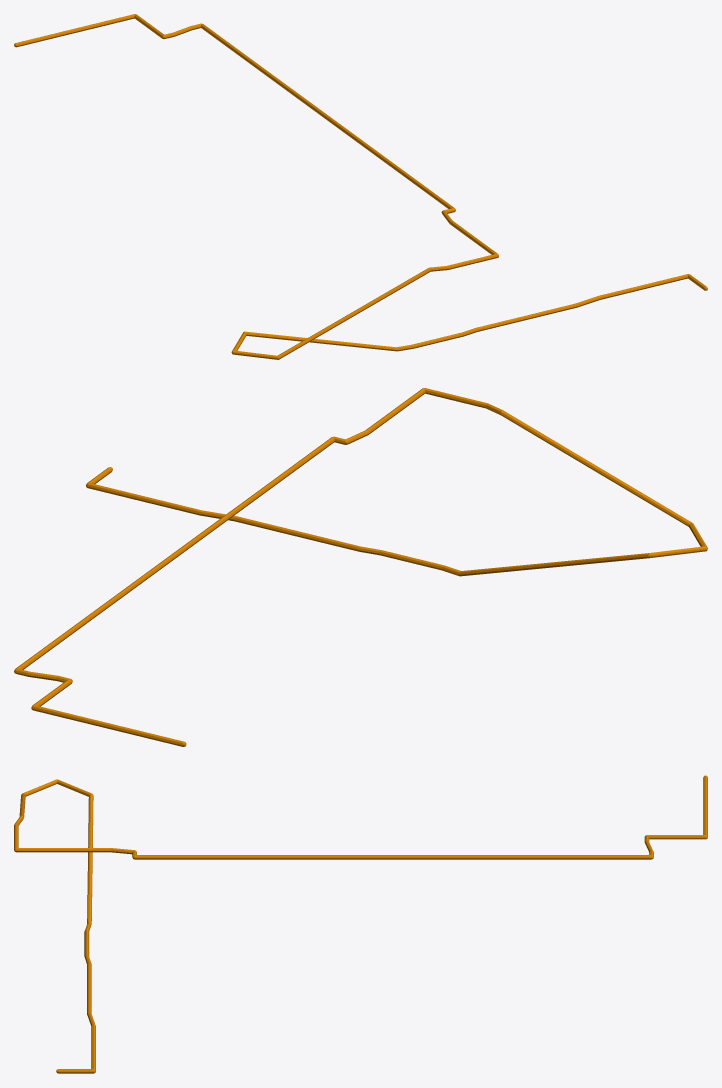
3 renders of one model, top to bottom at view 1: azimuth 30°, elevation 25°; view 2: azimuth 150°, elevation 25°; view 3: azimuth 270°, elevation 25°, orthographic. The views are drawn at different scales.
Size of the model in its own units: 2402 by 520 by 2954.
